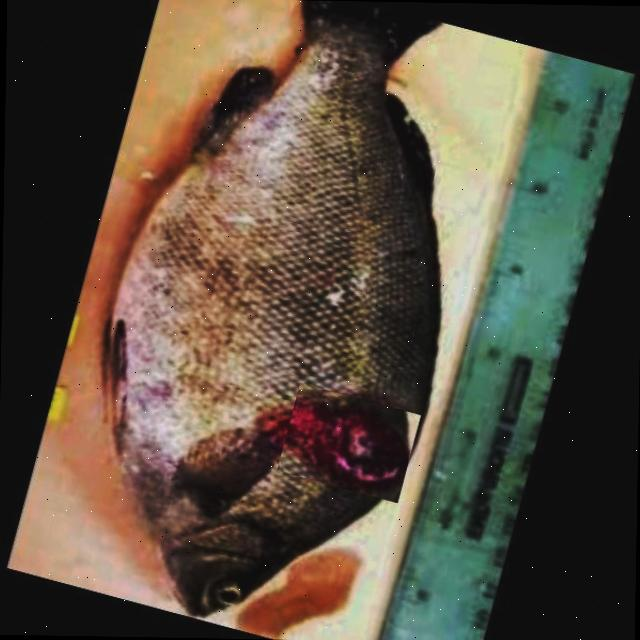Aeromonas Septicemia: (110, 0, 438, 615)
